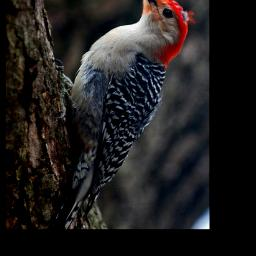Woodpecker: (51, 0, 195, 229)
